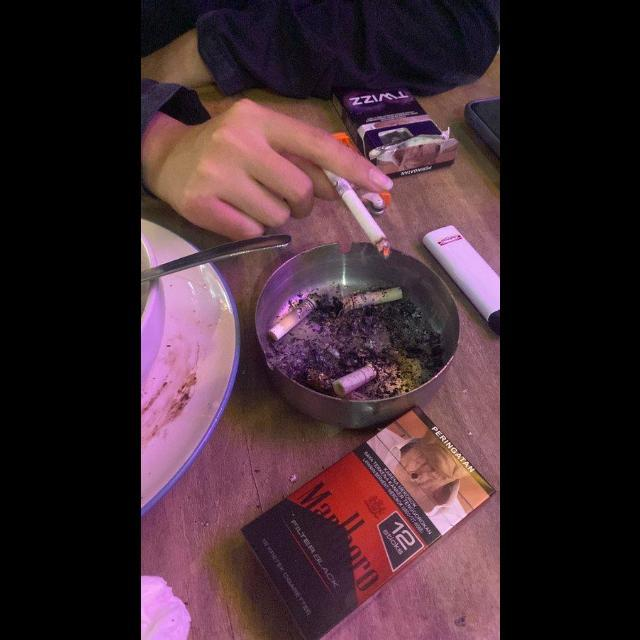rokok: (318, 160, 396, 260), (270, 290, 320, 344), (330, 356, 382, 399), (332, 288, 410, 312)
